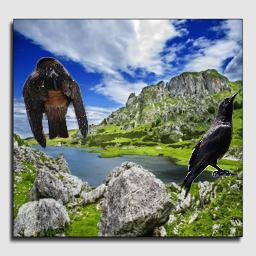Crow: (180, 92, 238, 197)
Swallow: (22, 57, 89, 149)
